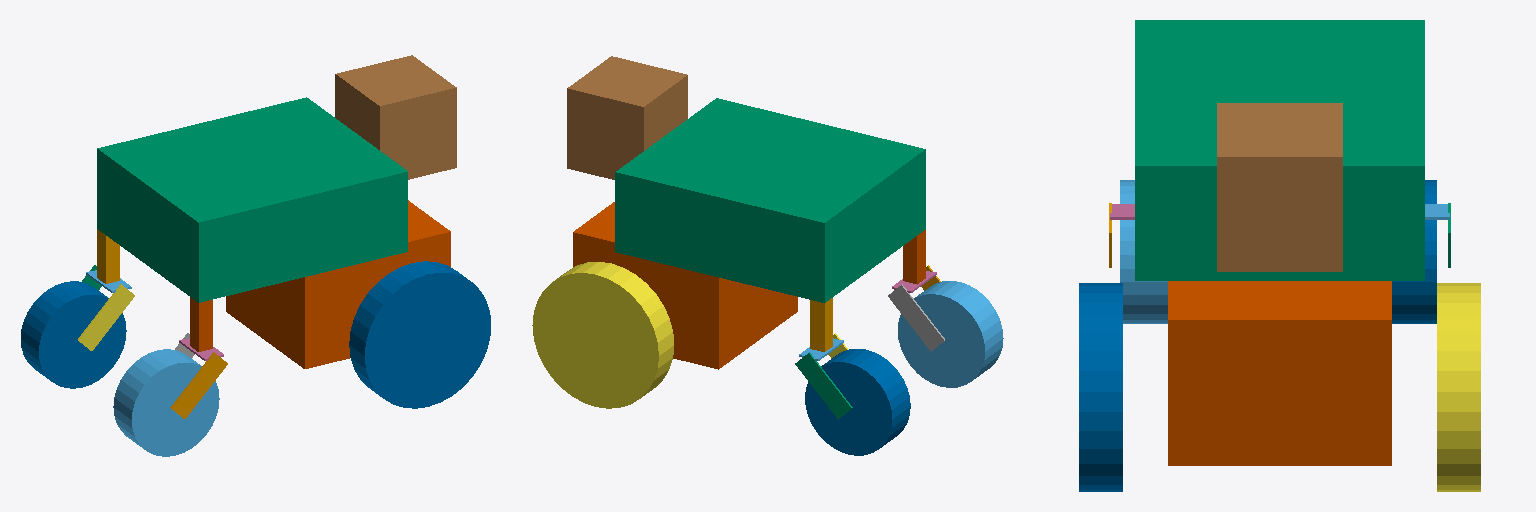
URDF robot description (mobot):
<?xml version="1.0" ?>
<!-- =================================================================================== -->
<!-- |    This document was autogenerated by xacro from mobot_w_lidar.xacro            | -->
<!-- |    EDITING THIS FILE BY HAND IS NOT RECOMMENDED                                 | -->
<!-- =================================================================================== -->
<robot name="mobot" xmlns:xacro="http://www.ros.org/wiki/xacro">
  <!-- define the base-link origin to lie at floor level, between the drive wheels-->
  <!--main body is a simple box; origin is a center of box-->
  <!--clearance from bottom of box to ground-->
  <!-- derived values-->
  <!-- placement of main body relative to base link frame -->
  <!-- define the drive-wheel dimensions-->
  <!-- "track" is the distance between the drive wheels -->
  <!-- battery box dimensions -->
  <!-- placement of battery box relative to base frame -->
  <!--here is a default inertia matrix with small, but legal values; use this when don't need accuracy for I -->
  <!--model will assign inertia matrix dominated by main body box -->
  <link name="castdrop_left">
    <visual>
      <geometry>
        <box size="0.0381 0.0381 0.125"/>
      </geometry>
      <origin rpy="0 0 0" xyz="0 0 0"/>
    </visual>
    <collision>
      <geometry>
        <box size="0.0381 0.0381 0.125"/>
      </geometry>
      <origin rpy="0 0 0" xyz="0 0 0"/>
    </collision>
    <inertial>
      <mass value="0.2"/>
      <inertia ixx="0.01" ixy="0.0" ixz="0.0" iyy="0.01" iyz="0.0" izz="0.01"/>
    </inertial>
  </link>
  <joint name="cast2base_left" type="fixed">
    <parent link="base_link"/>
    <child link="castdrop_left"/>
    <origin xyz="-0.52705 0.20955 0.2875"/>
  </joint>
  <link name="brackettop_left">
    <visual>
      <geometry>
        <box size="0.1175 0.0508 .005"/>
      </geometry>
      <origin rpy="0 0 0" xyz="0 0 0"/>
    </visual>
    <collision>
      <geometry>
        <box size="0.1175 0.0508 .005"/>
      </geometry>
      <origin rpy="0 0 0" xyz="0 0 0"/>
    </collision>
    <inertial>
      <mass value="0.2"/>
      <inertia ixx="0.01" ixy="0.0" ixz="0.0" iyy="0.01" iyz="0.0" izz="0.01"/>
    </inertial>
  </link>
  <joint name="cast2bracket_left" type="continuous">
    <axis xyz="0 0 1"/>
    <parent link="castdrop_left"/>
    <child link="brackettop_left"/>
    <origin rpy="0 0 1.57079632679" xyz="0 0 -0.0625"/>
    <joint_properties damping="0.0" friction="0.0"/>
  </joint>
  <link name="bracketside1_left">
    <visual>
      <geometry>
        <box size="0.0508 0.16 .005"/>
      </geometry>
      <origin rpy="1.57079632679 -0.7854 1.57079632679" xyz="0 0 0"/>
    </visual>
    <collision>
      <geometry>
        <box size="0.0508 0.16 .005"/>
      </geometry>
      <origin rpy="1.57079632679 -0.7854 1.57079632679" xyz="0 0 0"/>
    </collision>
    <inertial>
      <mass value="0.2"/>
      <inertia ixx="0.01" ixy="0.0" ixz="0.0" iyy="0.01" iyz="0.0" izz="0.01"/>
    </inertial>
  </link>
  <joint name="brack2top1_left" type="fixed">
    <parent link="brackettop_left"/>
    <child link="bracketside1_left"/>
    <origin rpy="0 0 0" xyz="0.05875 .04 -0.06"/>
  </joint>
  <link name="bracketside2_left">
    <visual>
      <geometry>
        <box size="0.0508 0.16 .005"/>
      </geometry>
      <origin rpy="1.57079632679 -0.7854 1.57079632679" xyz="0 0 0"/>
    </visual>
    <collision>
      <geometry>
        <box size="0.0508 0.16 .005"/>
      </geometry>
      <origin rpy="1.57079632679 -0.7854 1.57079632679" xyz="0 0 0"/>
    </collision>
    <inertial>
      <mass value="0.2"/>
      <inertia ixx="0.01" ixy="0.0" ixz="0.0" iyy="0.01" iyz="0.0" izz="0.01"/>
    </inertial>
  </link>
  <joint name="brack2top2_left" type="fixed">
    <parent link="brackettop_left"/>
    <child link="bracketside2_left"/>
    <origin rpy="0 0 0" xyz="-0.05875 .04 -0.06"/>
  </joint>
  <link name="left_casterwheel">
    <visual>
      <geometry>
        <cylinder length="0.0826" radius="0.1143"/>
      </geometry>
    </visual>
    <collision>
      <geometry>
        <cylinder length="0.0826" radius="0.1143"/>
      </geometry>
    </collision>
    <!-- accept default inertial properties for caster wheels-->
    <inertial>
      <mass value="0.5"/>
      <inertia ixx="0.01" ixy="0.0" ixz="0.0" iyy="0.01" iyz="0.0" izz="0.01"/>
    </inertial>
  </link>
  <joint name="left_caster_joint" type="continuous">
    <axis xyz="0 0 1"/>
    <parent link="bracketside1_left"/>
    <child link="left_casterwheel"/>
    <origin rpy="0 1.57079632679 0" xyz="-0.0613 .053 -.053"/>
    <limit effort="100" velocity="15"/>
    <joint_properties damping="0.0" friction="0.0"/>
  </joint>
  <link name="castdrop_right">
    <visual>
      <geometry>
        <box size="0.0381 0.0381 0.125"/>
      </geometry>
      <origin rpy="0 0 0" xyz="0 0 0"/>
    </visual>
    <collision>
      <geometry>
        <box size="0.0381 0.0381 0.125"/>
      </geometry>
      <origin rpy="0 0 0" xyz="0 0 0"/>
    </collision>
    <inertial>
      <mass value="0.2"/>
      <inertia ixx="0.01" ixy="0.0" ixz="0.0" iyy="0.01" iyz="0.0" izz="0.01"/>
    </inertial>
  </link>
  <joint name="cast2base_right" type="fixed">
    <parent link="base_link"/>
    <child link="castdrop_right"/>
    <origin xyz="-0.52705 -0.20955 0.2875"/>
  </joint>
  <link name="brackettop_right">
    <visual>
      <geometry>
        <box size="0.1175 0.0508 .005"/>
      </geometry>
      <origin rpy="0 0 0" xyz="0 0 0"/>
    </visual>
    <collision>
      <geometry>
        <box size="0.1175 0.0508 .005"/>
      </geometry>
      <origin rpy="0 0 0" xyz="0 0 0"/>
    </collision>
    <inertial>
      <mass value="0.2"/>
      <inertia ixx="0.01" ixy="0.0" ixz="0.0" iyy="0.01" iyz="0.0" izz="0.01"/>
    </inertial>
  </link>
  <joint name="cast2bracket_right" type="continuous">
    <axis xyz="0 0 1"/>
    <parent link="castdrop_right"/>
    <child link="brackettop_right"/>
    <origin rpy="0 0 1.57079632679" xyz="0 0 -0.0625"/>
    <joint_properties damping="0.0" friction="0.0"/>
  </joint>
  <link name="bracketside1_right">
    <visual>
      <geometry>
        <box size="0.0508 0.16 .005"/>
      </geometry>
      <origin rpy="1.57079632679 -0.7854 1.57079632679" xyz="0 0 0"/>
    </visual>
    <collision>
      <geometry>
        <box size="0.0508 0.16 .005"/>
      </geometry>
      <origin rpy="1.57079632679 -0.7854 1.57079632679" xyz="0 0 0"/>
    </collision>
    <inertial>
      <mass value="0.2"/>
      <inertia ixx="0.01" ixy="0.0" ixz="0.0" iyy="0.01" iyz="0.0" izz="0.01"/>
    </inertial>
  </link>
  <joint name="brack2top1_right" type="fixed">
    <parent link="brackettop_right"/>
    <child link="bracketside1_right"/>
    <origin rpy="0 0 0" xyz="0.05875 .04 -0.06"/>
  </joint>
  <link name="bracketside2_right">
    <visual>
      <geometry>
        <box size="0.0508 0.16 .005"/>
      </geometry>
      <origin rpy="1.57079632679 -0.7854 1.57079632679" xyz="0 0 0"/>
    </visual>
    <collision>
      <geometry>
        <box size="0.0508 0.16 .005"/>
      </geometry>
      <origin rpy="1.57079632679 -0.7854 1.57079632679" xyz="0 0 0"/>
    </collision>
    <inertial>
      <mass value="0.2"/>
      <inertia ixx="0.01" ixy="0.0" ixz="0.0" iyy="0.01" iyz="0.0" izz="0.01"/>
    </inertial>
  </link>
  <joint name="brack2top2_right" type="fixed">
    <parent link="brackettop_right"/>
    <child link="bracketside2_right"/>
    <origin rpy="0 0 0" xyz="-0.05875 .04 -0.06"/>
  </joint>
  <link name="right_casterwheel">
    <visual>
      <geometry>
        <cylinder length="0.0826" radius="0.1143"/>
      </geometry>
    </visual>
    <collision>
      <geometry>
        <cylinder length="0.0826" radius="0.1143"/>
      </geometry>
    </collision>
    <!-- accept default inertial properties for caster wheels-->
    <inertial>
      <mass value="0.5"/>
      <inertia ixx="0.01" ixy="0.0" ixz="0.0" iyy="0.01" iyz="0.0" izz="0.01"/>
    </inertial>
  </link>
  <joint name="right_caster_joint" type="continuous">
    <axis xyz="0 0 1"/>
    <parent link="bracketside1_right"/>
    <child link="right_casterwheel"/>
    <origin rpy="0 1.57079632679 0" xyz="-0.0613 .053 -.053"/>
    <limit effort="100" velocity="15"/>
    <joint_properties damping="0.0" friction="0.0"/>
  </joint>
  <link name="base_link">
    <visual>
      <geometry>
        <box size="0.5461 0.4572 0.2"/>
      </geometry>
      <origin rpy="0 0 0" xyz="-0.27305 0 0.45"/>
    </visual>
    <collision>
      <geometry>
        <box size="0.5461 0.4572 0.2"/>
      </geometry>
      <origin rpy="0 0 0" xyz="-0.27305 0 0.45"/>
    </collision>
    <inertial>
      <!--assign almost all the mass to the main body box; set m= 100kg; treat I as approx m*r^2 -->
      <mass value="100"/>
      <inertia ixx="10" ixy="0" ixz="0" iyy="10" iyz="0" izz="10"/>
    </inertial>
  </link>
  <link name="left_wheel">
    <visual>
      <geometry>
        <cylinder length="0.06985" radius="0.1651"/>
      </geometry>
    </visual>
    <collision>
      <geometry>
        <cylinder length="0.06985" radius="0.1651"/>
      </geometry>
    </collision>
    <inertial>
      <!--assign inertial properties to drive wheels -->
      <mass value="1"/>
      <inertia ixx="0.1" ixy="0" ixz="0" iyy="0.1" iyz="0" izz="0.1"/>
    </inertial>
  </link>
  <joint name="left_wheel_joint" type="continuous">
    <axis xyz="0 0 1"/>
    <parent link="base_link"/>
    <child link="left_wheel"/>
    <origin rpy="0 1.57079632679 1.57079632679" xyz="0 0.282575 0.1651"/>
    <limit effort="100" velocity="15"/>
    <joint_properties damping="0.0" friction="0.0"/>
  </joint>
  <link name="right_wheel">
    <visual>
      <geometry>
        <cylinder length="0.06985" radius="0.1651"/>
      </geometry>
    </visual>
    <collision>
      <geometry>
        <cylinder length="0.06985" radius="0.1651"/>
      </geometry>
    </collision>
    <inertial>
      <!--assign inertial properties to drive wheels -->
      <mass value="1"/>
      <inertia ixx="0.1" ixy="0" ixz="0" iyy="0.1" iyz="0" izz="0.1"/>
    </inertial>
  </link>
  <joint name="right_wheel_joint" type="continuous">
    <axis xyz="0 0 1"/>
    <parent link="base_link"/>
    <child link="right_wheel"/>
    <origin rpy="0 1.57079632679 1.57079632679" xyz="0 -0.282575 0.1651"/>
    <limit effort="100" velocity="15"/>
    <joint_properties damping="0.0" friction="0.0"/>
  </joint>
  <link name="batterybox">
    <visual>
      <geometry>
        <box size="0.381 0.3556 0.254"/>
      </geometry>
      <origin rpy="0 0 0" xyz="0 0 0"/>
    </visual>
    <collision>
      <geometry>
        <box size="0.381 0.3556 0.254"/>
      </geometry>
      <origin rpy="0 0 0" xyz="0 0 0"/>
    </collision>
    <inertial>
      <mass value="1"/>
      <inertia ixx="0.01" ixy="0.0" ixz="0.0" iyy="0.01" iyz="0.0" izz="0.01"/>
    </inertial>
  </link>
  <joint name="batterytobase" type="fixed">
    <parent link="base_link"/>
    <child link="batterybox"/>
    <origin rpy="0 0 0" xyz="-0.05 0 0.22"/>
  </joint>
  <gazebo>
    <plugin filename="libgazebo_ros_diff_drive.so" name="differential_drive_controller">
      <alwaysOn>true</alwaysOn>
      <updateRate>100</updateRate>
      <leftJoint>right_wheel_joint</leftJoint>
      <rightJoint>left_wheel_joint</rightJoint>
      <wheelSeparation>0.56515</wheelSeparation>
      <wheelDiameter>0.3302</wheelDiameter>
      <torque>200</torque>
      <commandTopic>cmd_vel</commandTopic>
      <odometryTopic>odom</odometryTopic>
      <odometryFrame>odom</odometryFrame>
      <robotBaseFrame>base_link</robotBaseFrame>
      <publishWheelTF>true</publishWheelTF>
      <publishWheelJointState>true</publishWheelJointState>
    </plugin>
  </gazebo>
  <gazebo reference="right_wheel">
    <mu1>100000.0</mu1>
    <mu2>100000.0</mu2>
    <material>Gazebo/Black</material>
  </gazebo>
  <gazebo reference="left_wheel">
    <mu1>100000.0</mu1>
    <mu2>100000.0</mu2>
    <material>Gazebo/Black</material>
  </gazebo>
  <gazebo reference="right_casterwheel">
    <mu1>100000.0</mu1>
    <mu2>100000.0</mu2>
    <material>Gazebo/Black</material>
  </gazebo>
  <gazebo reference="left_casterwheel">
    <mu1>100000.0</mu1>
    <mu2>100000.0</mu2>
    <material>Gazebo/Black</material>
  </gazebo>
  <gazebo>
    <plugin filename="libgazebo_ros_joint_state_publisher.so" name="joint_state_publisher">
      <jointName>cast2bracket_right, cast2bracket_left, right_caster_joint, left_caster_joint </jointName>
    </plugin>
  </gazebo>
  <!-- add a simulated lidar, including visual, collision and inertial properties, and physics simulation-->
  <link name="lidar_link">
    <collision>
      <origin rpy="0 0 0" xyz="0 0 0"/>
      <geometry>
        <!-- coarse LIDAR model; a simple box -->
        <box size="0.2 0.2 0.2"/>
      </geometry>
    </collision>
    <visual>
      <origin rpy="0 0 0" xyz="0 0 0"/>
      <geometry>
        <box size="0.2 0.2 0.2"/>
      </geometry>
      <material name="sick_grey">
        <color rgba="0.7 0.5 0.3 1.0"/>
      </material>
    </visual>
    <inertial>
      <mass value="1.0"/>
      <origin rpy="0 0 0" xyz="0 0 0"/>
      <inertia ixx="0.01" ixy="0" ixz="0" iyy="0.01" iyz="0" izz="0.01"/>
    </inertial>
  </link>
  <!--the above displays a box meant to imply Lidar-->
  <joint name="lidar_joint" type="fixed">
    <axis xyz="0 1 0"/>
    <origin rpy="0 0 0" xyz="0.1 0 0.56"/>
    <parent link="base_link"/>
    <child link="lidar_link"/>
  </joint>
  <!--
  <gazebo reference="lidar_link">
    <sensor type="gpu_ray" name="sick_lidar_sensor">
      <pose>0 0 0 0 0 0</pose>
      <visualize>false</visualize>
      <update_rate>40</update_rate>
      <ray>
        <scan>
          <horizontal>
            <samples>181</samples>
            <resolution>1</resolution>
            <min_angle>-1.570796</min_angle>
            <max_angle>1.570796</max_angle>
          </horizontal>
        </scan>
        <range>
          <min>0.10</min>
          <max>80.0</max>
          <resolution>0.01</resolution>
        </range>
        <noise>
          <type>gaussian</type>
          <mean>0.0</mean>
          <stddev>0.01</stddev>
        </noise>
      </ray>
      <plugin name="gazebo_ros_lidar_controller" filename="libgazebo_ros_gpu_laser.so">
                <topicName>/scan</topicName>
        <frameName>lidar_link</frameName>
      </plugin>
    </sensor>
  </gazebo>  
  -->
</robot>

--- Facts derived from the render (not from the file) ---
Views: 3 orthographic renders of the robot side by side, from view 1: azimuth 30°, elevation 25°; view 2: azimuth 150°, elevation 25°; view 3: azimuth 270°, elevation 25°.
Robot: mobot — 15 links, 14 joints (6 continuous, 8 fixed); root link base_link; default pose: every joint at zero.
Visible links, largest first — view 1: base_link, right_wheel, batterybox, lidar_link, right_casterwheel, left_casterwheel, bracketside2_left, bracketside2_right, castdrop_right, castdrop_left; view 2: base_link, left_wheel, batterybox, lidar_link, right_casterwheel, left_casterwheel, bracketside1_right, bracketside1_left, castdrop_left, castdrop_right; view 3: base_link, batterybox, lidar_link, left_wheel, right_wheel, right_casterwheel, left_casterwheel.
Boxes of the visible links, left/top/right/bottom form: base_link: left=97, top=97, right=407, bottom=302; right_wheel: left=349, top=261, right=490, bottom=408; batterybox: left=226, top=200, right=450, bottom=368; lidar_link: left=335, top=55, right=456, bottom=179; right_casterwheel: left=113, top=349, right=219, bottom=456; left_casterwheel: left=21, top=281, right=126, bottom=388; bracketside2_left: left=78, top=284, right=134, bottom=350; bracketside2_right: left=170, top=352, right=227, bottom=418; castdrop_right: left=190, top=297, right=212, bottom=351; castdrop_left: left=97, top=229, right=119, bottom=283; base_link: left=615, top=98, right=925, bottom=302; left_wheel: left=532, top=262, right=673, bottom=408; batterybox: left=573, top=202, right=797, bottom=369; lidar_link: left=567, top=56, right=687, bottom=179; right_casterwheel: left=898, top=281, right=1003, bottom=387; left_casterwheel: left=805, top=349, right=910, bottom=455; bracketside1_right: left=888, top=284, right=944, bottom=351; bracketside1_left: left=795, top=352, right=852, bottom=419; castdrop_left: left=810, top=298, right=832, bottom=351; castdrop_right: left=903, top=230, right=925, bottom=284; base_link: left=1135, top=20, right=1424, bottom=280; batterybox: left=1168, top=281, right=1391, bottom=465; lidar_link: left=1217, top=103, right=1342, bottom=271; left_wheel: left=1437, top=283, right=1480, bottom=491; right_wheel: left=1079, top=283, right=1122, bottom=491; right_casterwheel: left=1120, top=180, right=1167, bottom=323; left_casterwheel: left=1392, top=180, right=1436, bottom=323.
Size in the robot's own frame: 0.9344 by 0.635 by 0.6623 metres.
Geometry: primitives only (box / cylinder / sphere), no mesh files.
